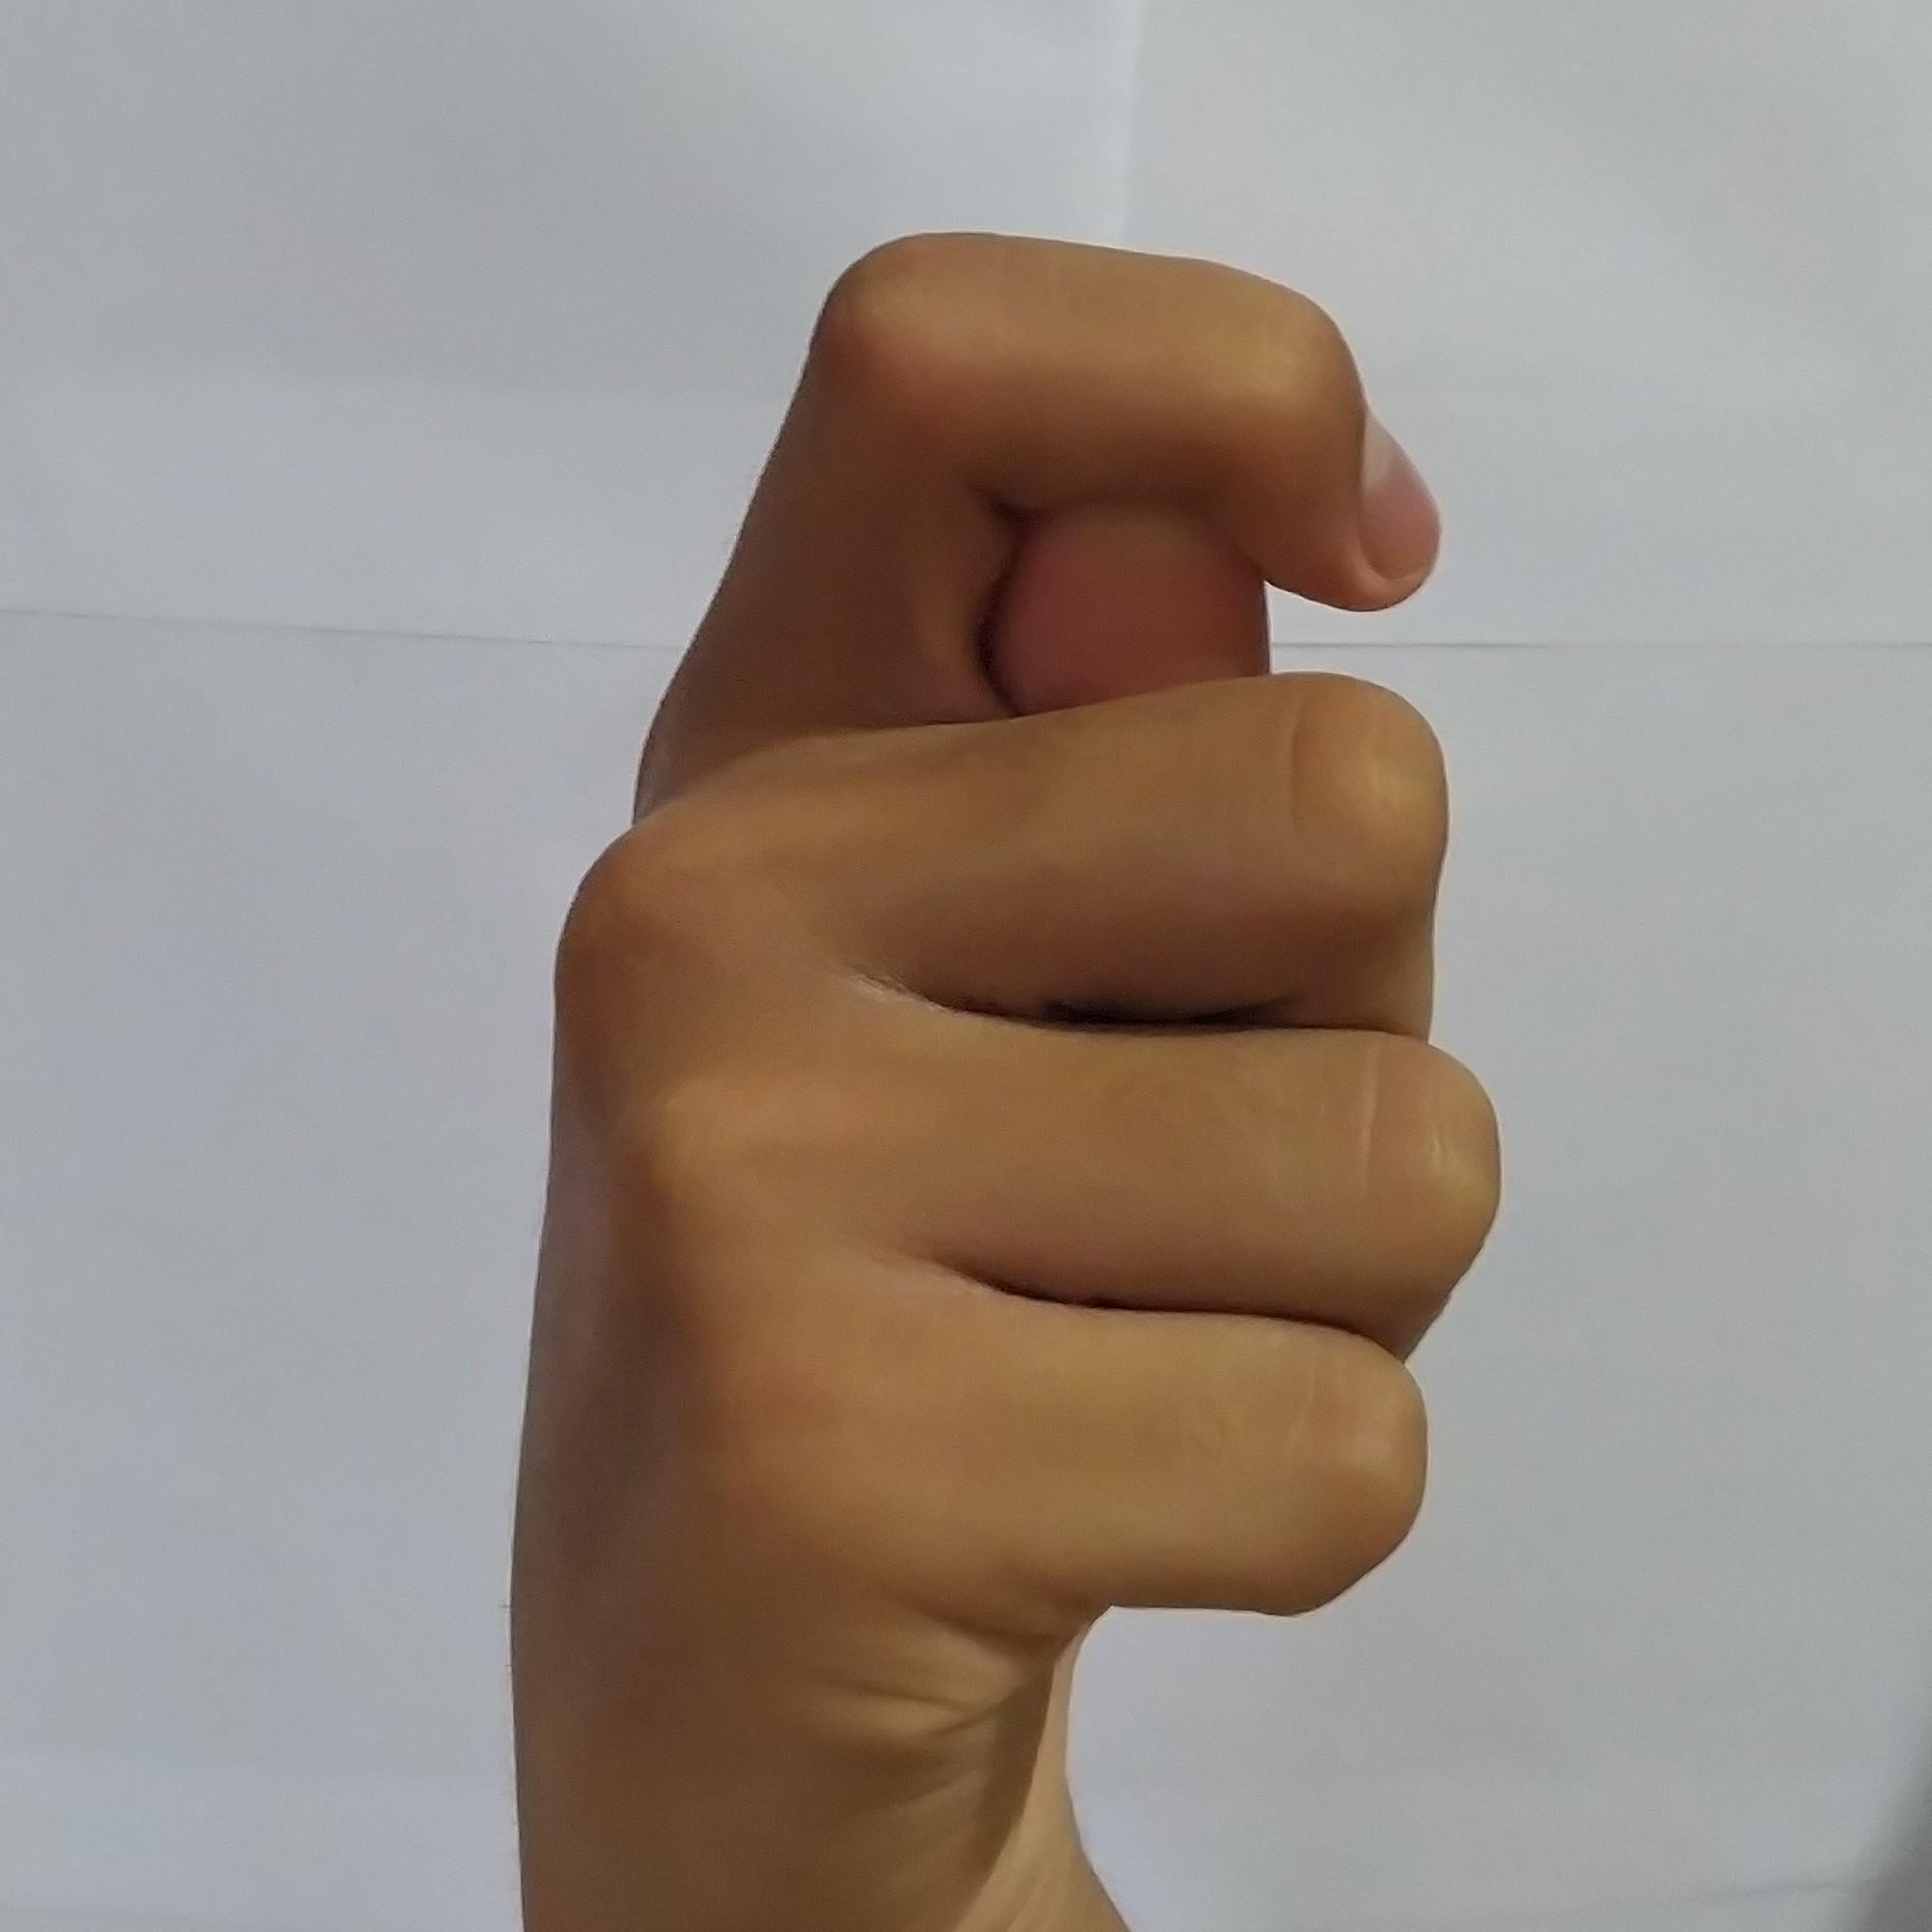T: (476, 195, 1537, 1932)
